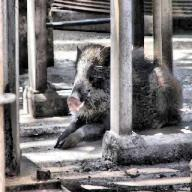boar: (53, 42, 184, 150)
